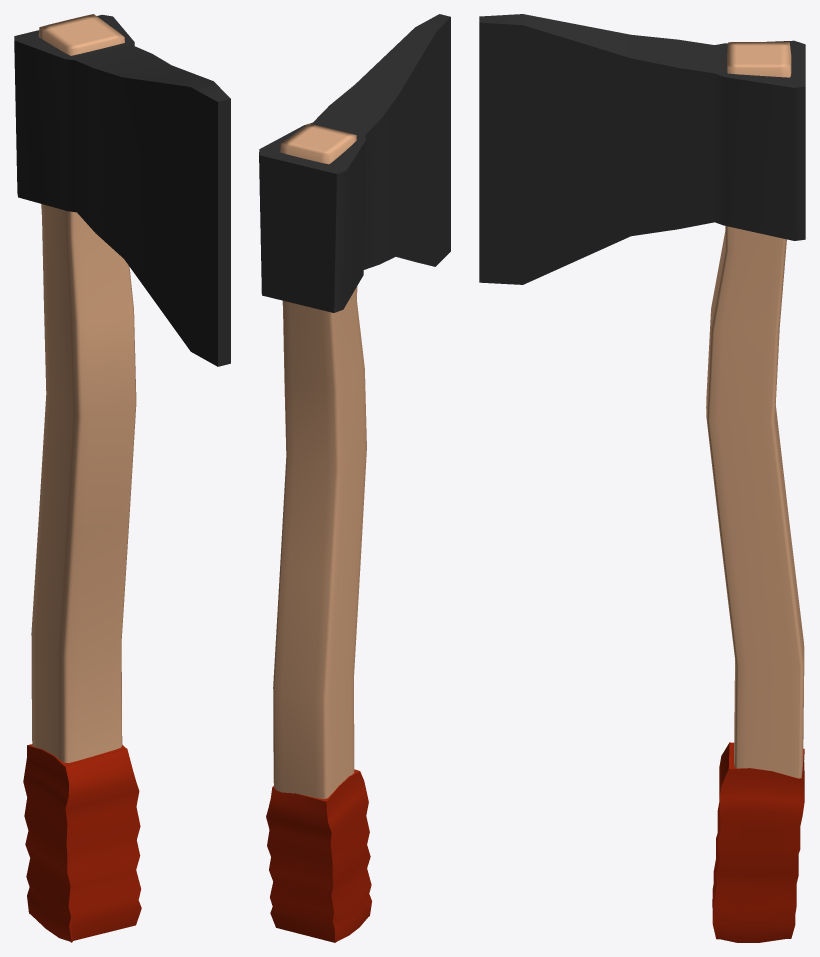
File: Axe.fbx
The picture shows the model from 3 angles, left to right: view 1: azimuth 30°, elevation 25°; view 2: azimuth 150°, elevation 25°; view 3: azimuth 270°, elevation 25°; orthographic projection. The views are drawn at different scales.
Parts seen in each view (by area): view 1: pCube4; view 2: pCube4; view 3: pCube4.
Part boxes in pixels (x1,y1,x2,y2): pCube4: [14, 14, 230, 942]; pCube4: [259, 14, 450, 942]; pCube4: [479, 14, 805, 942].
Bounding box in the file's own units: 21.19 × 190 × 61.91.
